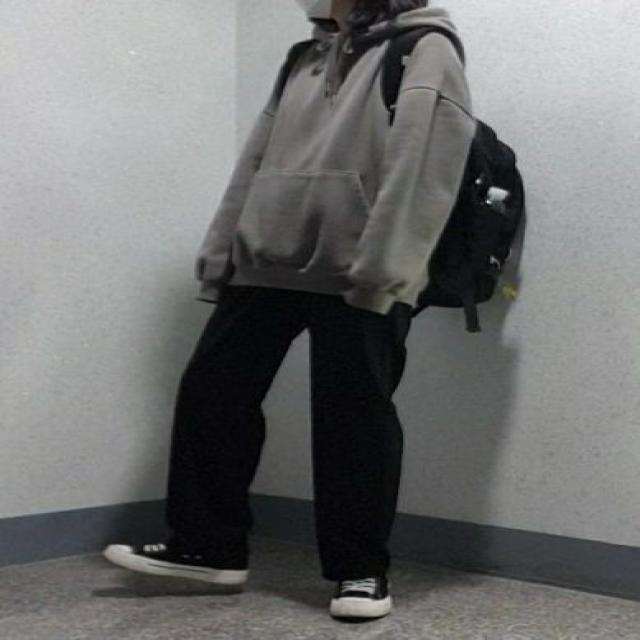denimpants: (195, 9, 473, 314), (165, 279, 412, 584)
